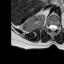CCS_normal: (51, 21, 54, 34)
LFS_normal: (56, 22, 59, 32)
LLS_normal: (54, 22, 57, 33)
RFS_normal: (46, 22, 49, 32)
RLS_normal: (48, 22, 51, 33)
